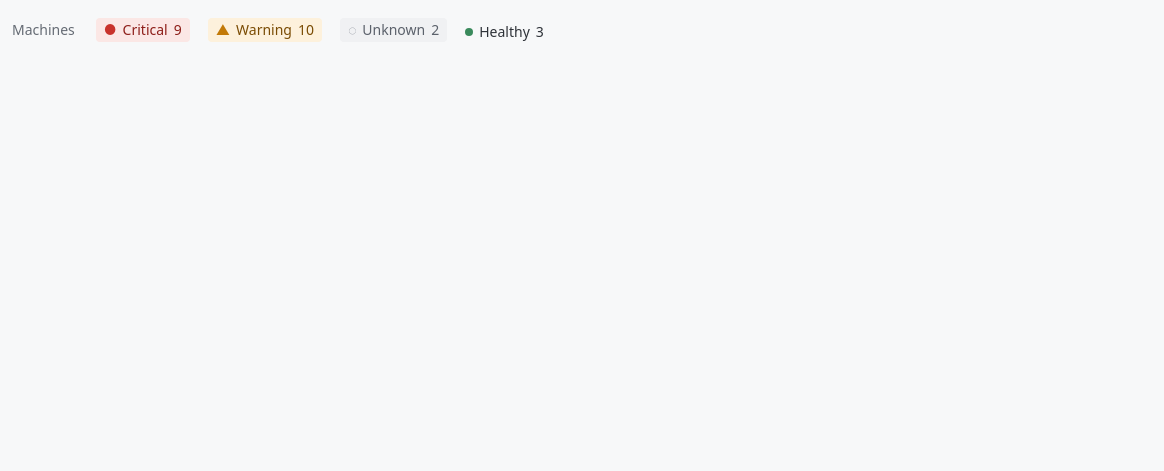
machine list rows › show "Latest" and no sensor indicator when the sensor is online
Click the button "● Critical 9" at (143, 30), box top-left (91, 12), bottom-right (195, 47)
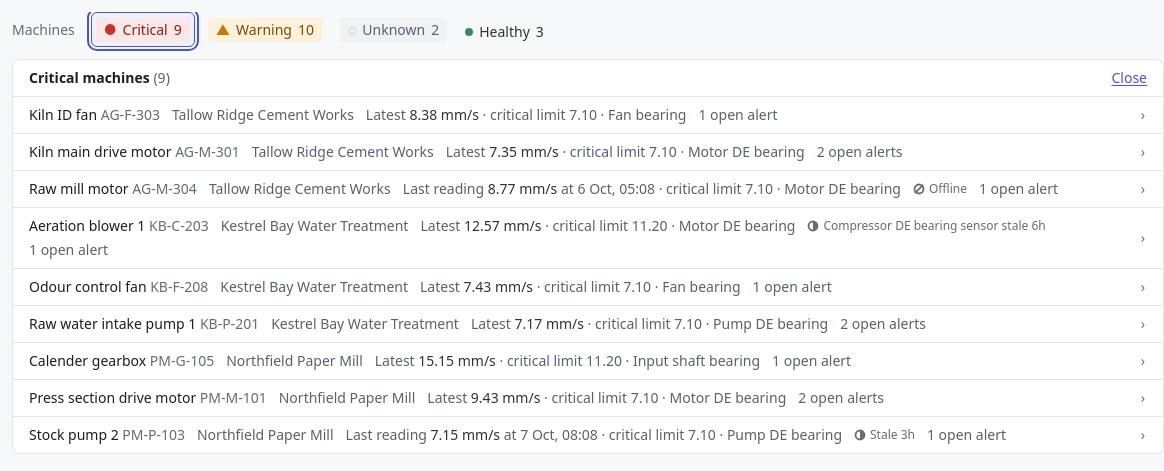
Expected: the element showing "Latest 9.43 mm/s · critical limit 7.10 · Motor DE bearing" is shown, top-left (427, 388), bottom-right (786, 408)
